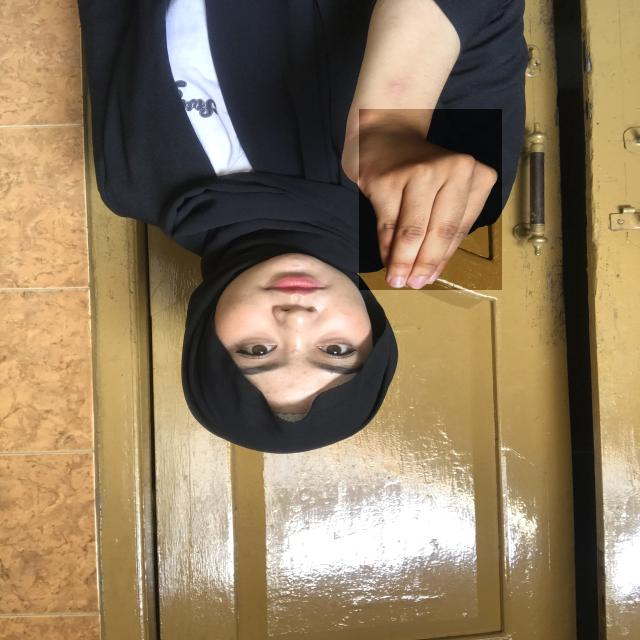kapan: (359, 109, 502, 290)
